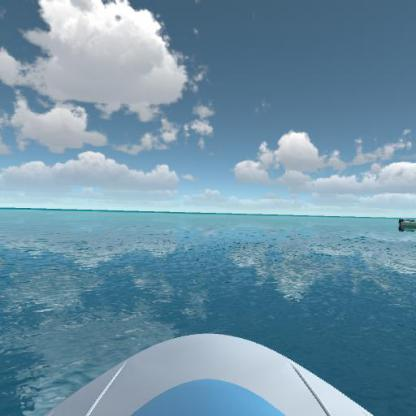usv0: (397, 214, 415, 231)
